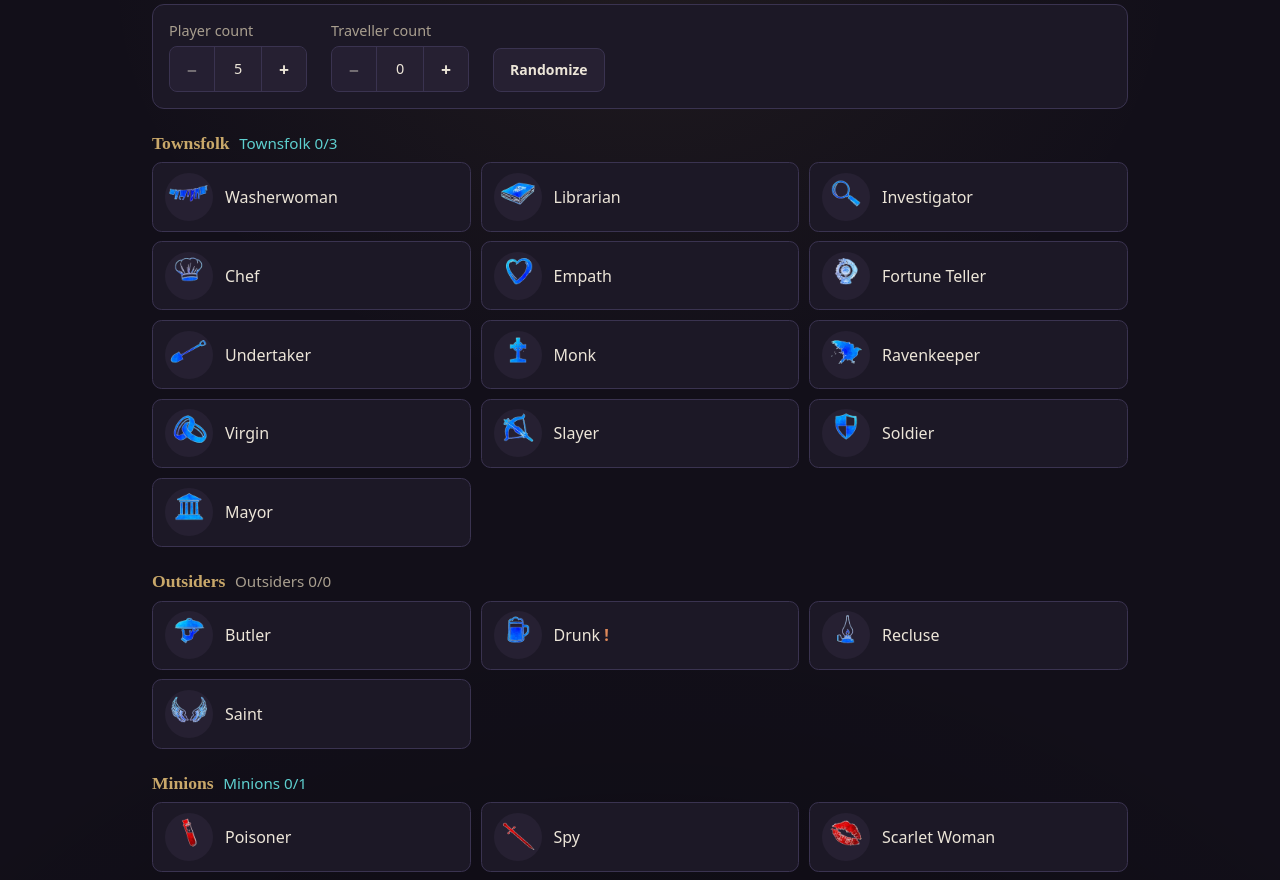
Test case: player count and official target counts › shows a traveller target driven by the separate 0-5 traveller count
The width and height of the screenshot is (1280, 880).
Replace the text in the number field labelled "Traveller count" with "2" at {"x": 400, "y": 69}, box [376,47,424,91]
(page scrolled)
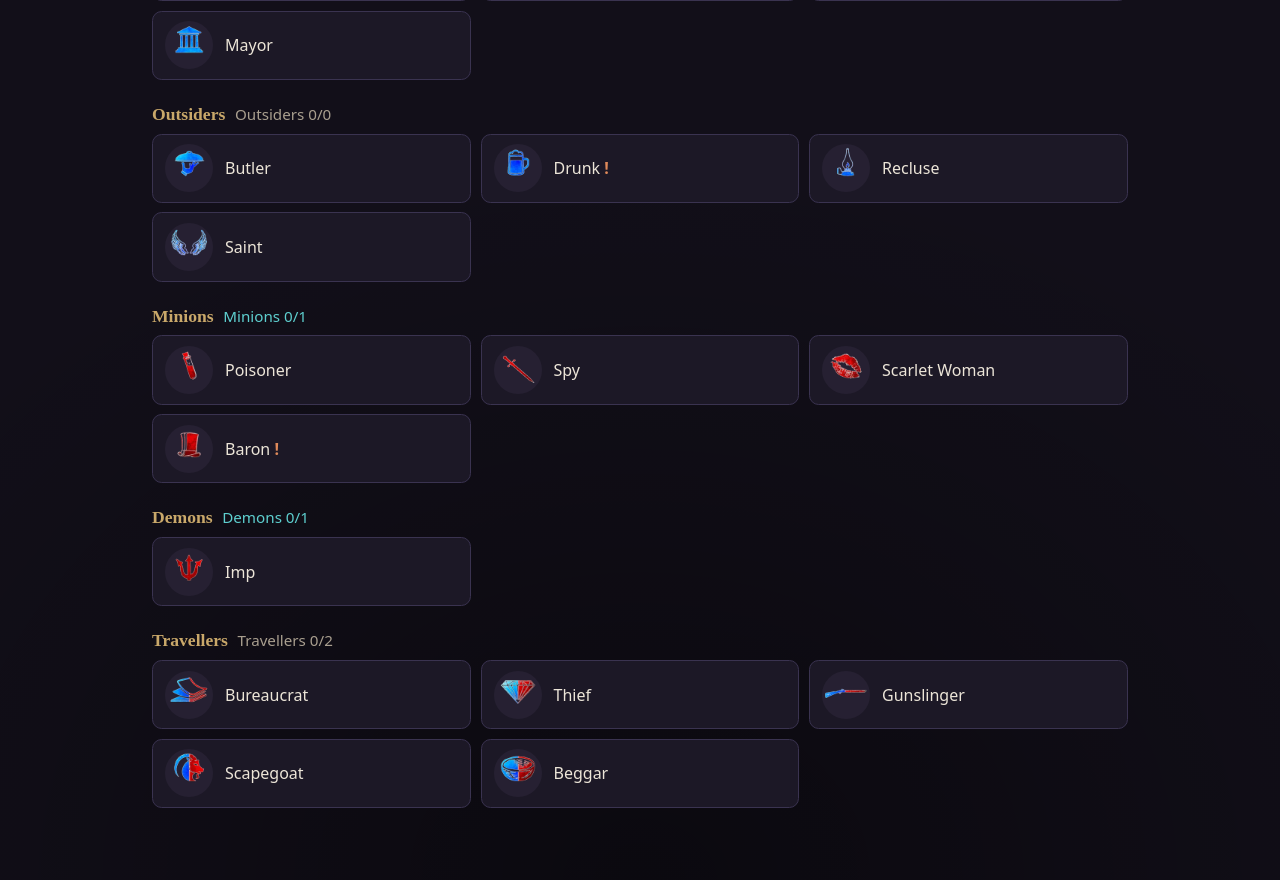
Expected: the text "Travellers 0/2" is shown, [238,630,333,650]
